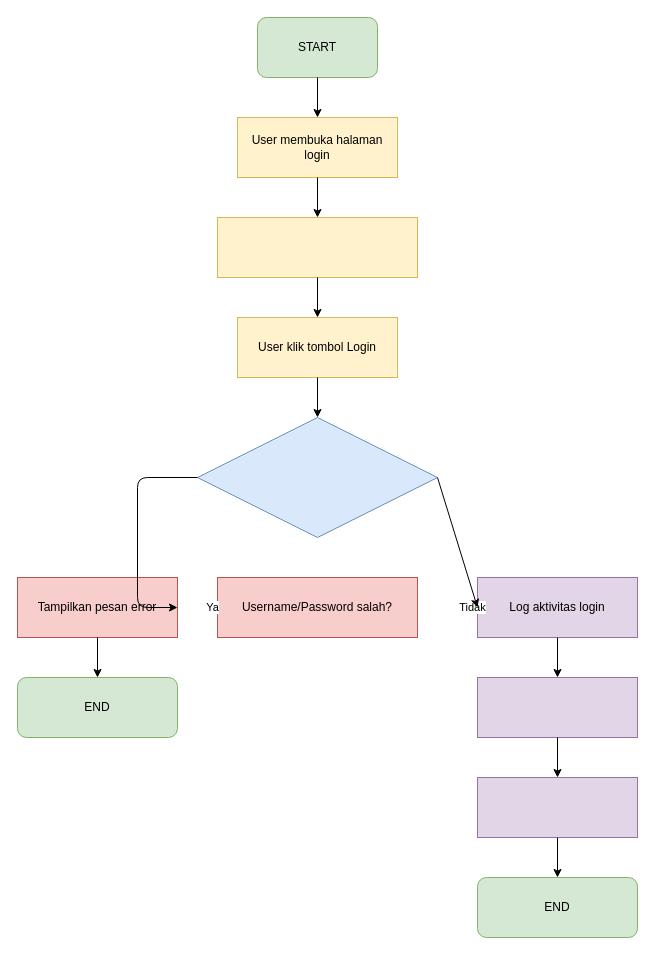
Some shapes in this 655 by 955 pixel diagram are drawn without their labels. Here are the shapes that lost their labels. From the top down, the centre of each, then its label:
At point 317,247: "User memasukkan username dan password".
At point 317,477: "Sistem validasi username dan password".
At point 557,707: "Simpan data user ke localStorage".
At point 557,807: "Redirect ke dashboard berdasarkan role".
